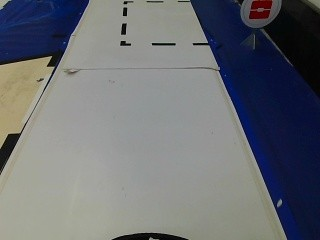company: (242, 0, 282, 28)
